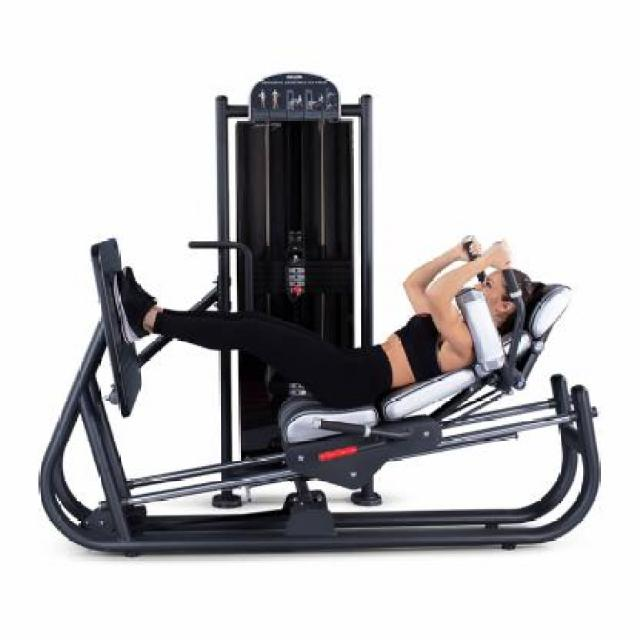leg press: (39, 59, 606, 558)
